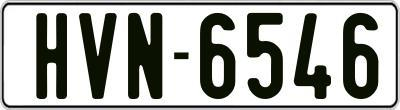4: (294, 13, 334, 99)
5: (246, 10, 282, 97)
6: (343, 12, 379, 102), (200, 13, 235, 104)
H: (36, 13, 73, 99)
N: (125, 11, 165, 97)
V: (78, 10, 122, 96)
